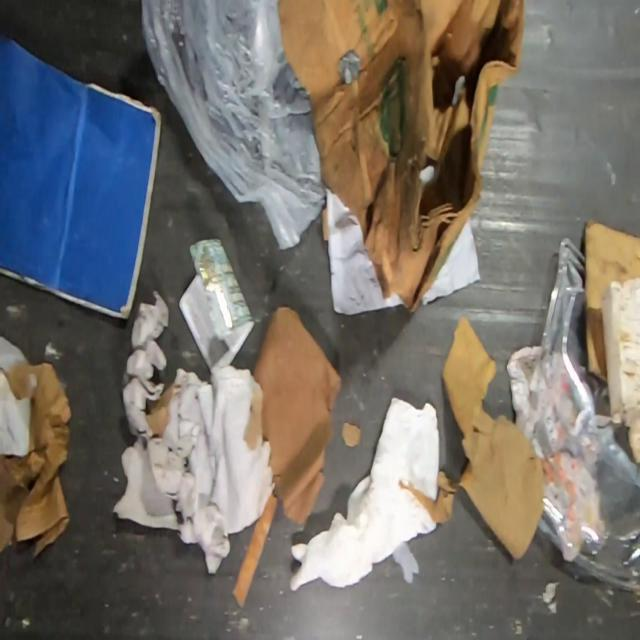cardboard: (274, 0, 527, 318), (144, 306, 343, 608), (0, 37, 165, 326), (399, 315, 548, 559), (0, 362, 71, 564), (584, 221, 640, 444), (340, 420, 363, 448)
rigid_plastic: (517, 237, 640, 596)
soft_plastic: (140, 0, 327, 250)
